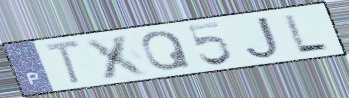5: (186, 20, 236, 68)
J: (243, 15, 283, 62)
L: (280, 12, 332, 54)
Q: (139, 29, 195, 73)
T: (42, 38, 85, 87)
X: (82, 32, 154, 81)
